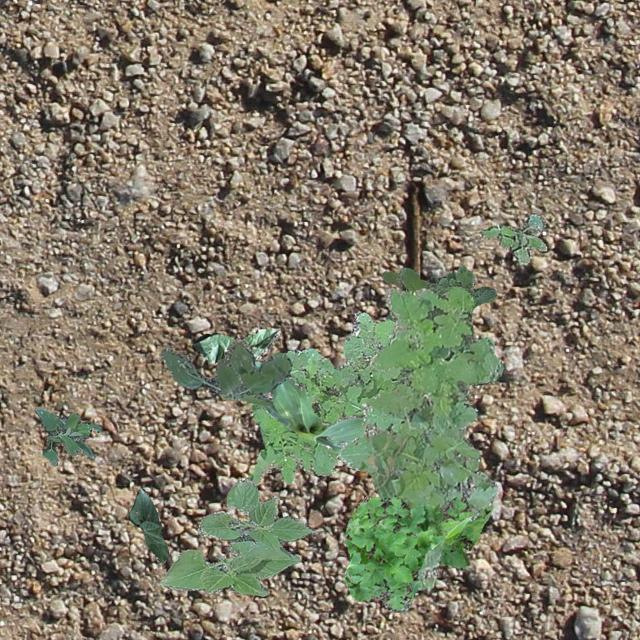crop: (158, 476, 314, 594), (252, 360, 368, 450), (190, 328, 280, 362), (128, 488, 168, 562)
weed: (338, 286, 502, 588), (246, 312, 404, 484), (344, 497, 469, 612), (160, 336, 290, 404), (380, 264, 496, 320), (32, 406, 102, 464), (438, 502, 492, 570), (478, 212, 546, 264)
